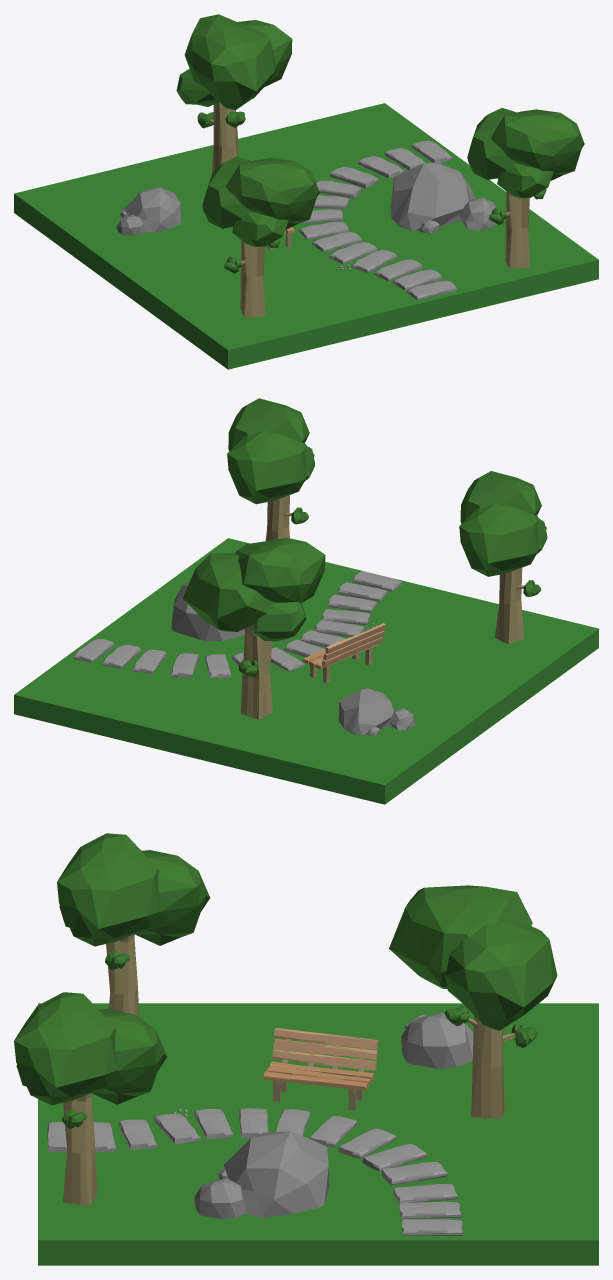
Rendered from Parque.fbx.
3 renders of one model, top to bottom at view 1: azimuth 30°, elevation 25°; view 2: azimuth 150°, elevation 25°; view 3: azimuth 270°, elevation 25°, orthographic. The views are drawn at different scales.
Parts seen in each view (by area): view 1: Cube.004_Material.018_0.001; view 2: Cube.004_Material.018_0.001; view 3: Cube.004_Material.018_0.001.
Boxes of the visible parts, bbox=[...] form: Cube.004_Material.018_0.001: bbox=[14, 14, 598, 369]; Cube.004_Material.018_0.001: bbox=[14, 398, 598, 804]; Cube.004_Material.018_0.001: bbox=[14, 833, 598, 1265].
Size of the model in its own units: 15237 by 7661 by 15893.
